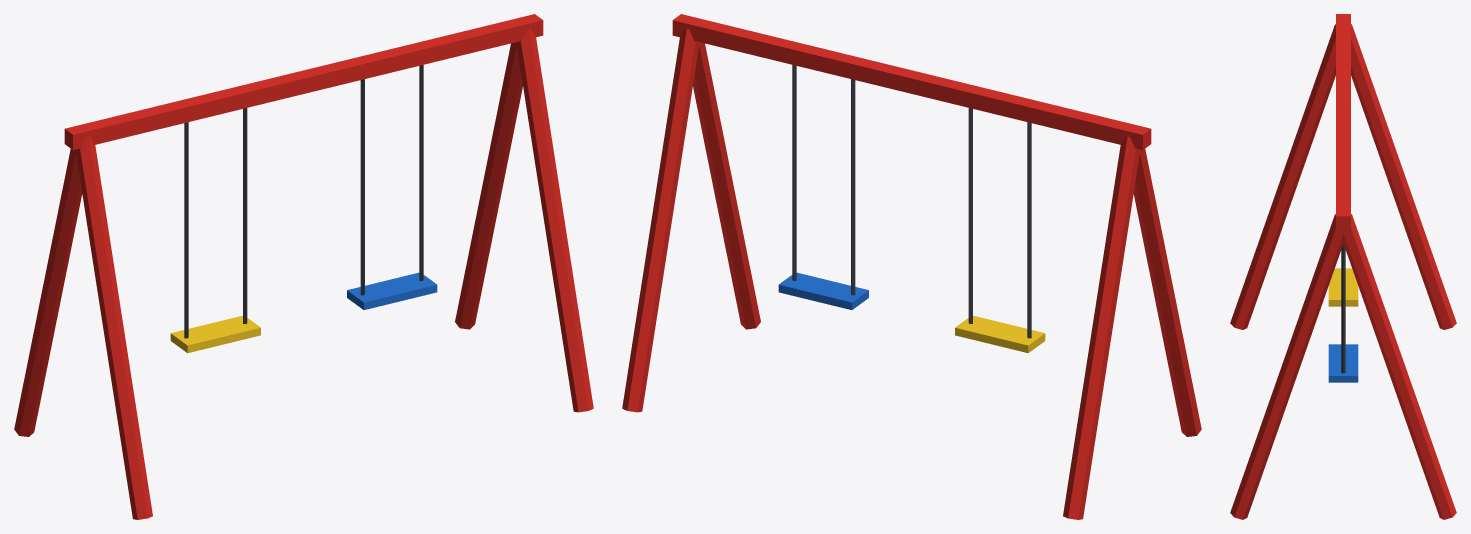
The model's file is swing_set.glb.
The picture shows the model from 3 angles, left to right: view 1: azimuth 30°, elevation 25°; view 2: azimuth 150°, elevation 25°; view 3: azimuth 270°, elevation 25°; orthographic projection. The views are drawn at different scales.
Parts seen in each view (by area): view 1: swing_set; view 2: swing_set; view 3: swing_set.
Boxes of the visible parts, x1,y1,x2,y2 form: swing_set: (14, 14, 593, 519); swing_set: (622, 14, 1201, 519); swing_set: (1230, 14, 1456, 519).
Size of the model in its own units: 3.2 by 2.27 by 1.51.
